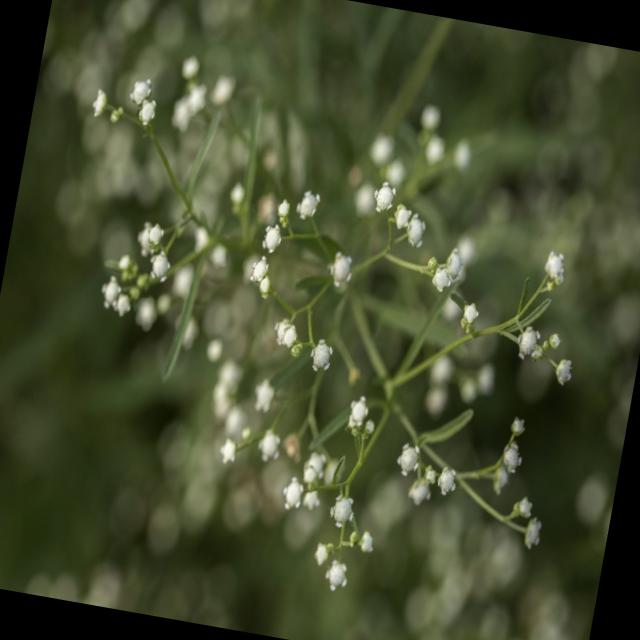Poisonous-Parthenium: (45, 47, 402, 401), (360, 199, 603, 413), (196, 370, 422, 600), (402, 446, 570, 556)
